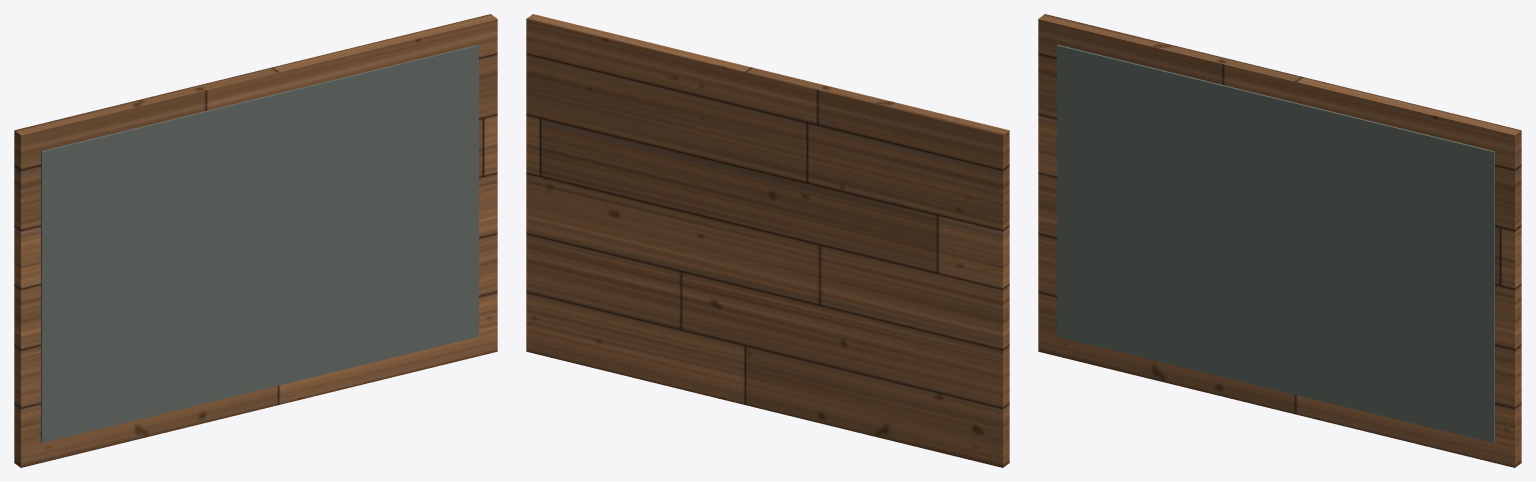
Rendered from menu_board.glb.
3 views of the same model, side by side, from view 1: azimuth 30°, elevation 25°; view 2: azimuth 150°, elevation 25°; view 3: azimuth 330°, elevation 25° (orthographic).
Parts seen in each view (by area): view 1: menu_board_menu, menu_board_wood; view 2: menu_board_wood; view 3: menu_board_menu, menu_board_wood.
Part boxes in pixels (x1=…): menu_board_menu: x1=41, y1=44, x2=478, y2=442; menu_board_wood: x1=14, y1=14, x2=497, y2=467; menu_board_wood: x1=526, y1=14, x2=1009, y2=467; menu_board_menu: x1=1057, y1=44, x2=1494, y2=442; menu_board_wood: x1=1038, y1=14, x2=1521, y2=467.
Size of the model in its own units: 1.2 by 0.8 by 0.035.
2 materials, 1 textured.
